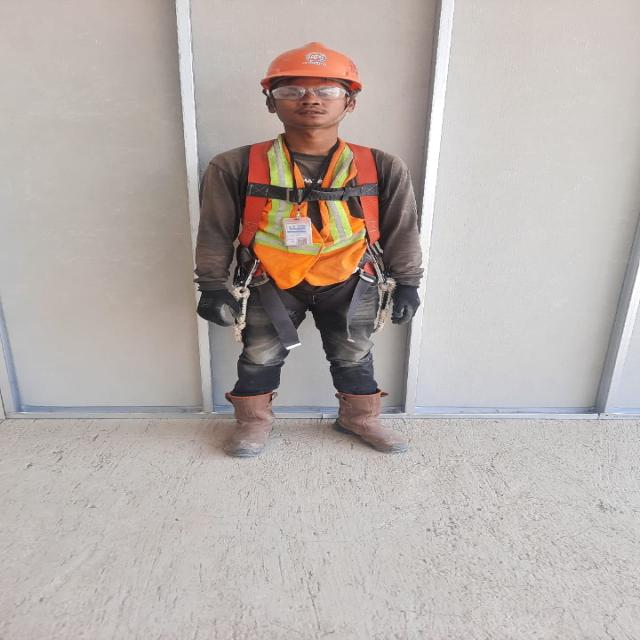gloves: (179, 287, 251, 324), (374, 284, 431, 328)
goggles: (244, 84, 369, 104)
helmet: (248, 44, 364, 88)
safety_vest: (240, 148, 384, 286)
